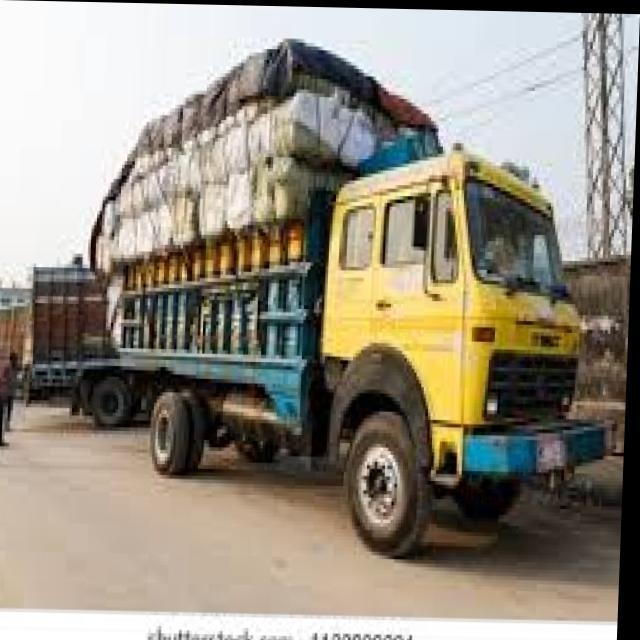uncovered: (100, 35, 616, 564)
